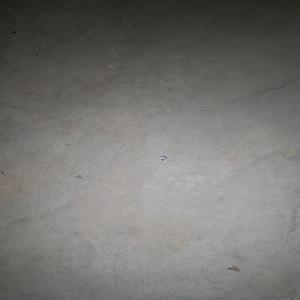Nut: (158, 156, 167, 162)
